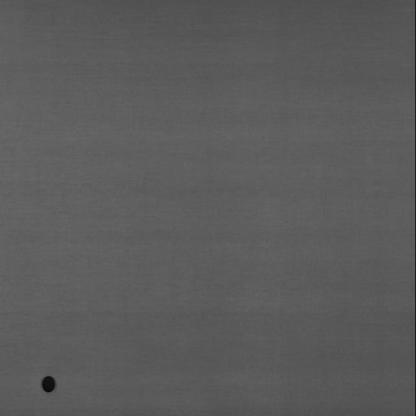punching_hole: (37, 371, 61, 397)
